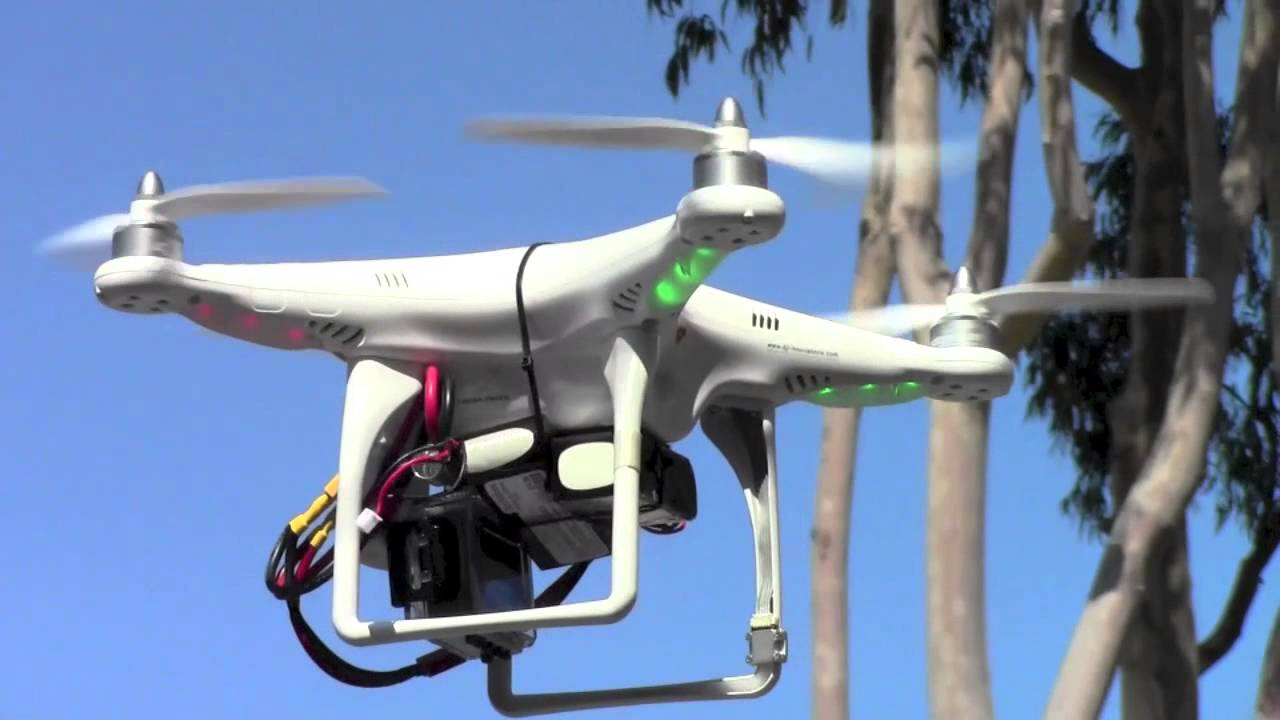drone: (27, 94, 1211, 720)
